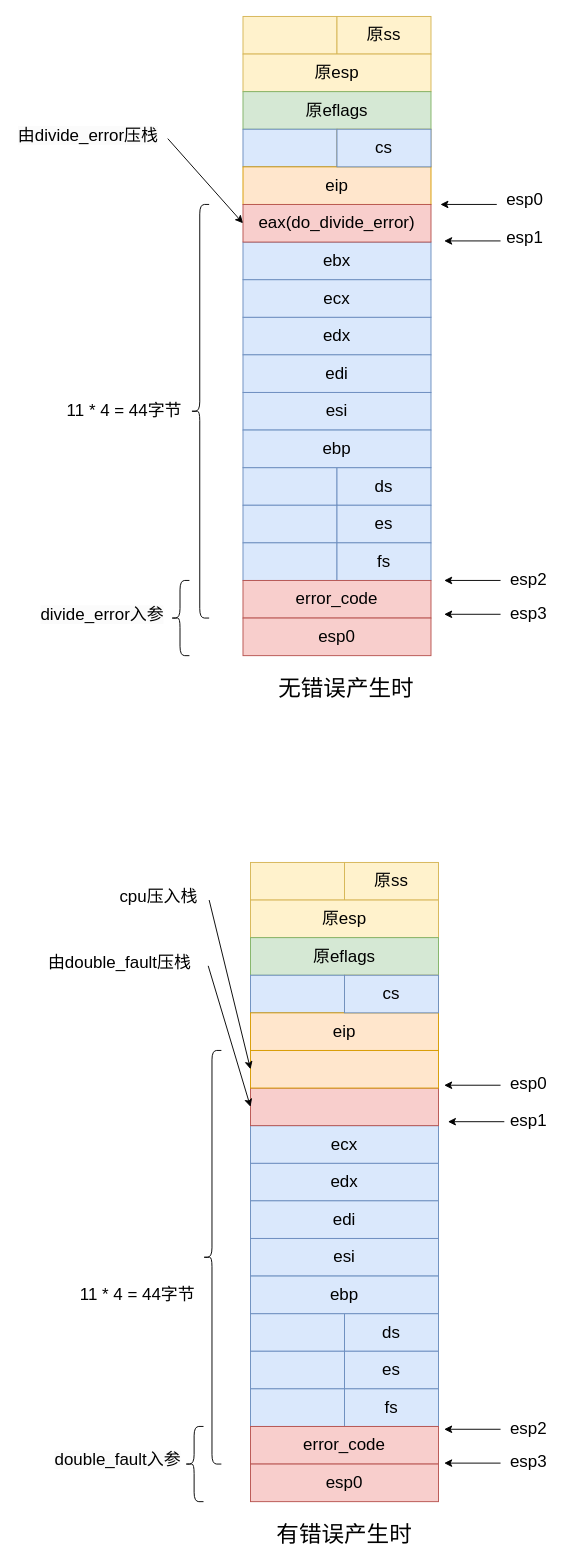
Image size: 572x1565. Some labels were removed from this diagram. Each missing label, with the centre of its shape:
"eax(error_code)" belongs at (x=344, y=1069).
"ebx(do_double_fault )" belongs at (x=344, y=1106).
